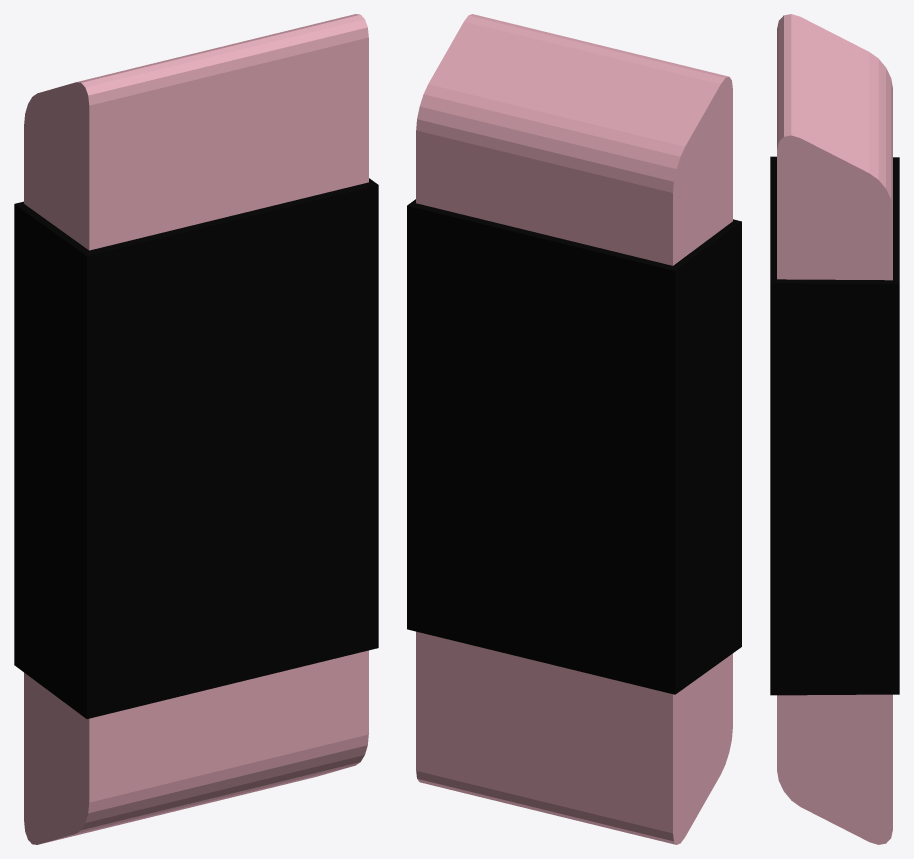
Rendered from Eraser.fbx.
3 views of the same model, side by side, from view 1: azimuth 30°, elevation 25°; view 2: azimuth 150°, elevation 25°; view 3: azimuth 270°, elevation 25° (orthographic). The views are drawn at different scales.
Parts seen in each view (by area): view 1: Cube; view 2: Cube; view 3: Cube.
Boxes of the visible parts, x1,y1,x2,y2 form: Cube: [14, 14, 378, 844]; Cube: [407, 14, 741, 844]; Cube: [770, 14, 899, 844].
Size of the model in its own units: 7.1 by 18.54 by 3.06.
